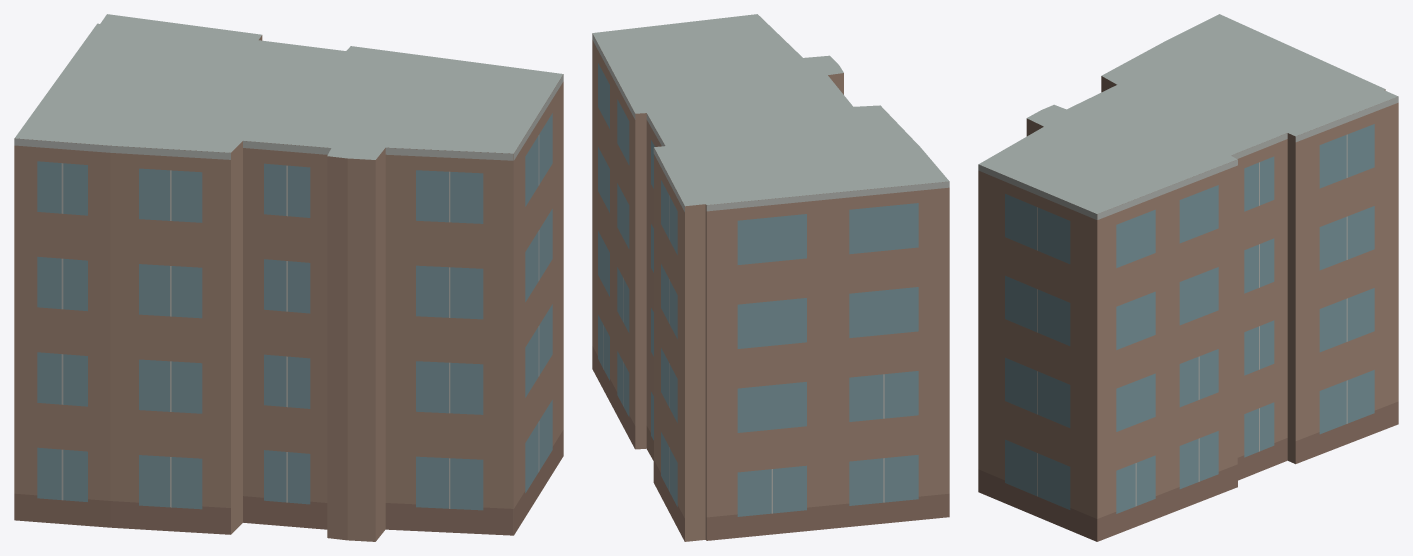
The model's file is survey-upis-32950218.glb.
3 renders of one model, left to right at view 1: azimuth 30°, elevation 25°; view 2: azimuth 150°, elevation 25°; view 3: azimuth 270°, elevation 25°, orthographic. The views are drawn at different scales.
Parts seen in each view (by area): view 1: survey-upis-32950218.tmp; view 2: survey-upis-32950218.tmp; view 3: survey-upis-32950218.tmp.
Part boxes in pixels (x1=…): survey-upis-32950218.tmp: x1=14, y1=14, x2=563, y2=541; survey-upis-32950218.tmp: x1=592, y1=14, x2=949, y2=541; survey-upis-32950218.tmp: x1=978, y1=14, x2=1398, y2=541.
Size of the model in its own units: 17.08 by 13.04 by 15.15.
